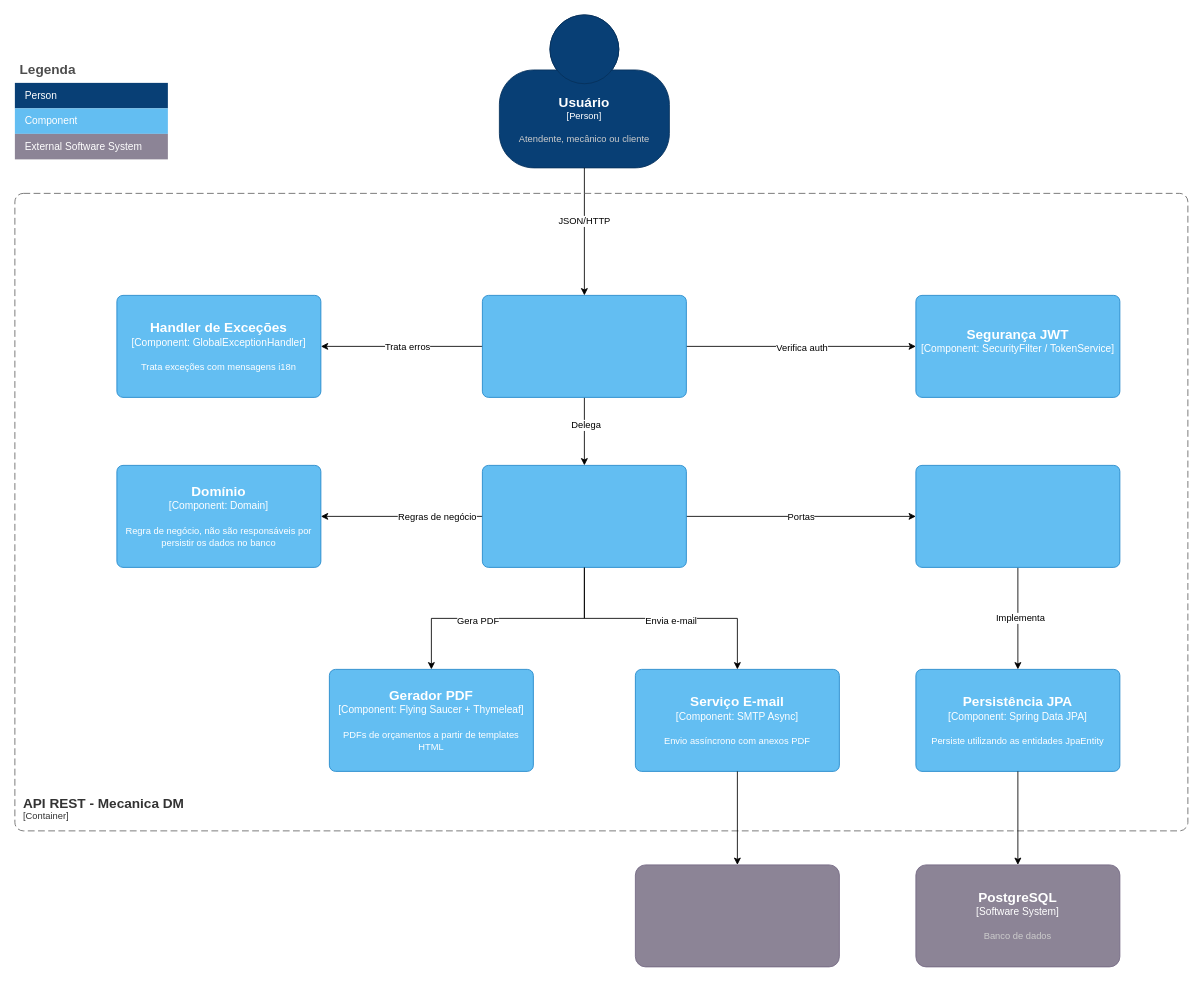
Image size: 1203x982. Some labels were removed from this diagram. The shapes that lost their labels are listed below. From the top down, each one's centre as x and y in pixels, then its label:
At (x=584, y=346): "Controllers REST [Component: Spring MVC]".
At (x=584, y=516): "Casos de Uso [Component: UseCases]".
At (x=1017, y=516): "Gateways [Component: Interfaces]".
At (x=737, y=915): "Servidor SMTP [Software System] E-mail".
